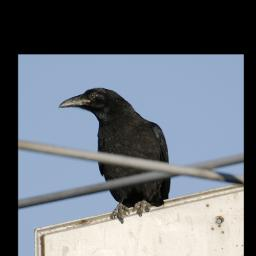Crow: (57, 87, 173, 223)
